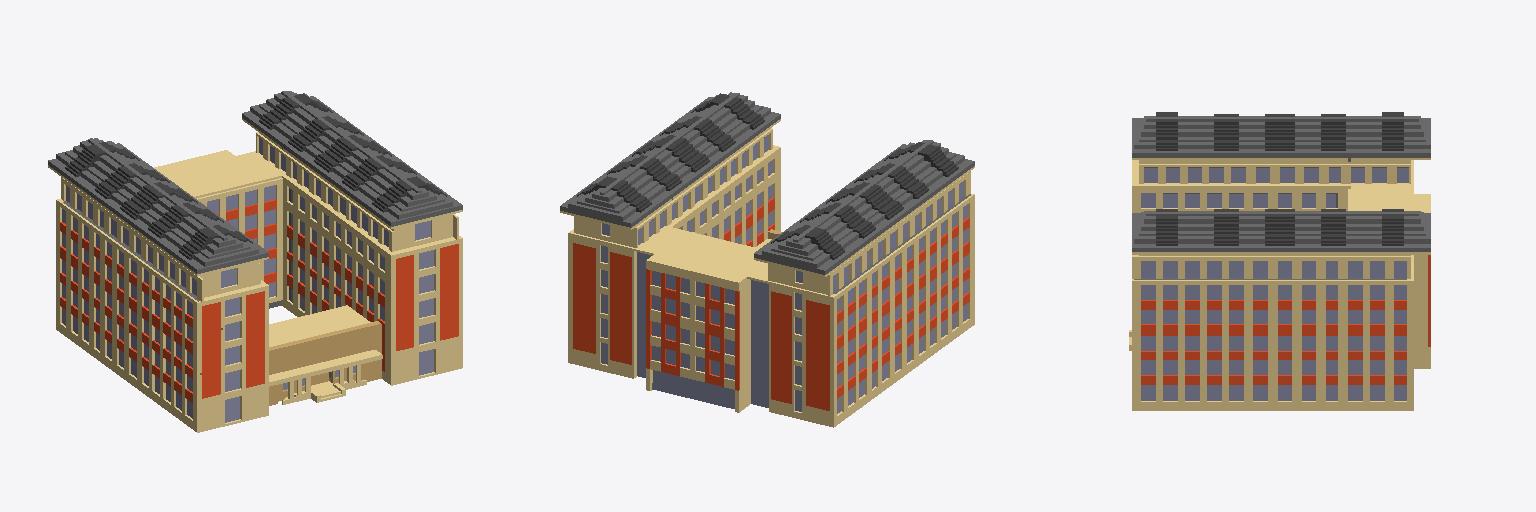
3 renders of one model, left to right at view 1: azimuth 30°, elevation 25°; view 2: azimuth 150°, elevation 25°; view 3: azimuth 270°, elevation 25°, orthographic.
Parts seen in each view (by area): view 1: 宿舍楼; view 2: 宿舍楼; view 3: 宿舍楼.
Boxes of the visible parts, x1,y1,x2,y2 form: 宿舍楼: [48, 91, 462, 432]; 宿舍楼: [560, 92, 974, 427]; 宿舍楼: [1129, 112, 1430, 410].
Bounding box in the file's own units: 126 × 82 × 124.
1 materials, 1 textured.